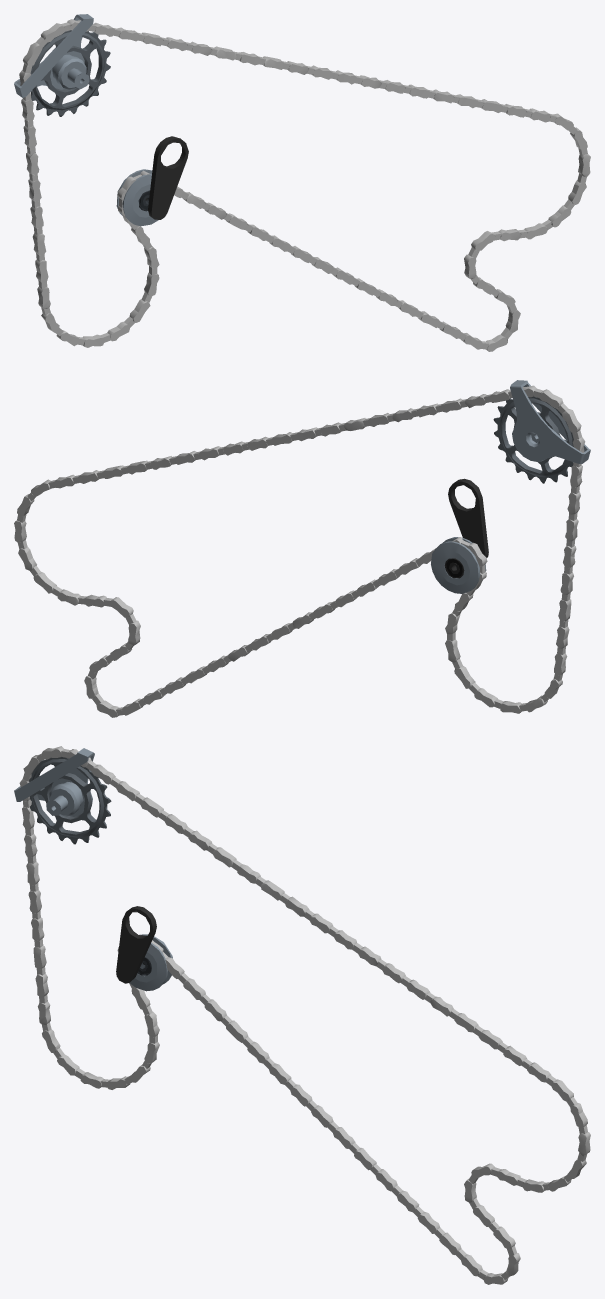
The model's file is chain_guide_LOD0.fbx.
3 views of the same model, one above another, from view 1: azimuth 30°, elevation 25°; view 2: azimuth 150°, elevation 25°; view 3: azimuth 330°, elevation 25° (orthographic).
Parts seen in each view (by area): view 1: MM_carbon_n0594_chain, MM_carbon_n0674_drive_idler, MM_carbon_n0284_return_mount, MM_carbon_n0676_drive_cage, MM_carbon_n0717_return_idler, MM_carbon_n0720_return_mount; view 2: MM_carbon_n0594_chain, MM_carbon_n0676_drive_cage, MM_carbon_n0674_drive_idler, MM_carbon_n0717_return_idler, MM_carbon_n0284_return_mount; view 3: MM_carbon_n0594_chain, MM_carbon_n0674_drive_idler, MM_carbon_n0284_return_mount, MM_carbon_n0676_drive_cage, MM_carbon_n0717_return_idler, MM_carbon_n0720_return_mount.
Part boxes in pixels (box(x1,y1,x2,y2)): MM_carbon_n0594_chain: box(19, 19, 590, 351); MM_carbon_n0674_drive_idler: box(30, 30, 110, 116); MM_carbon_n0284_return_mount: box(148, 136, 188, 219); MM_carbon_n0676_drive_cage: box(14, 14, 93, 97); MM_carbon_n0717_return_idler: box(116, 169, 158, 226); MM_carbon_n0720_return_mount: box(52, 54, 86, 89); MM_carbon_n0594_chain: box(14, 385, 585, 717); MM_carbon_n0676_drive_cage: box(510, 380, 590, 463); MM_carbon_n0674_drive_idler: box(493, 396, 573, 483); MM_carbon_n0717_return_idler: box(431, 537, 486, 593); MM_carbon_n0284_return_mount: box(448, 478, 488, 557); MM_carbon_n0594_chain: box(19, 746, 590, 1284); MM_carbon_n0674_drive_idler: box(29, 757, 111, 844); MM_carbon_n0284_return_mount: box(116, 906, 156, 983); MM_carbon_n0676_drive_cage: box(14, 748, 94, 816); MM_carbon_n0717_return_idler: box(129, 934, 172, 991); MM_carbon_n0720_return_mount: box(49, 782, 83, 816).
Bounding box in the file's own units: 0.5507 × 0.3988 × 0.0389.
